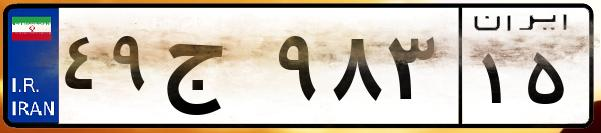1: (475, 38, 525, 113)
3: (385, 28, 445, 110)
4: (57, 26, 110, 100)
5: (525, 38, 570, 115)
8: (330, 28, 385, 110)
9: (270, 28, 330, 110), (110, 28, 158, 98)
ج: (158, 20, 270, 120)
